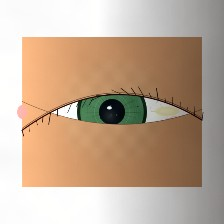pinguecula_lesion: (142, 91, 192, 131)
